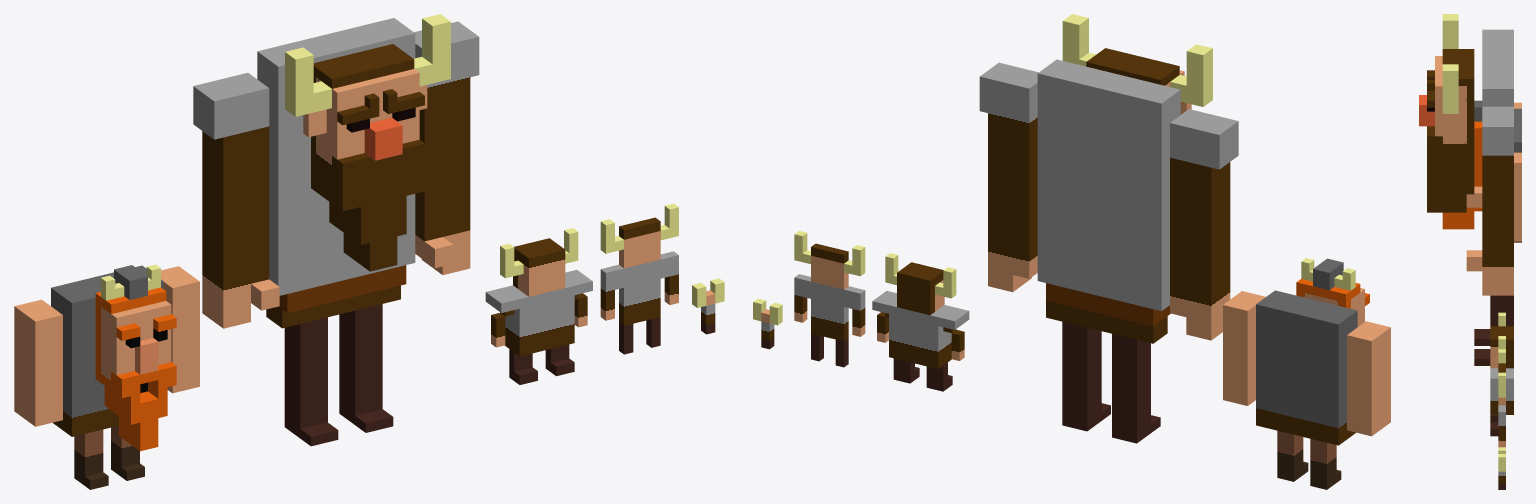
Rendered from Trolloc.glb.
3 renders of one model, left to right at view 1: azimuth 30°, elevation 25°; view 2: azimuth 150°, elevation 25°; view 3: azimuth 270°, elevation 25°, orthographic. The views are drawn at different scales.
Parts seen in each view (by area): view 1: pl0; view 2: pl0; view 3: pl0.
Part boxes in pixels (left/top/right/bottom): pl0: left=14, top=14, right=724, bottom=489; pl0: left=753, top=14, right=1390, bottom=489; pl0: left=1419, top=14, right=1521, bottom=489.
Size of the model in its own units: 76 by 43 by 13.
Materials: 1 (1 with a texture image).
